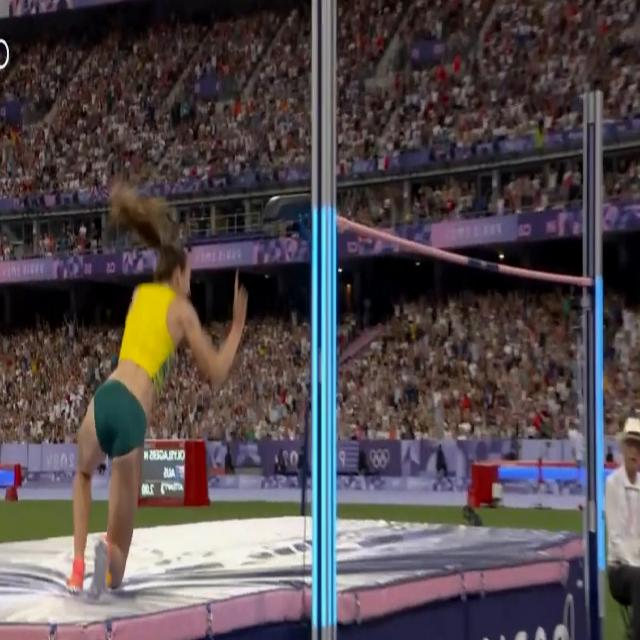land: (67, 244, 246, 595)
